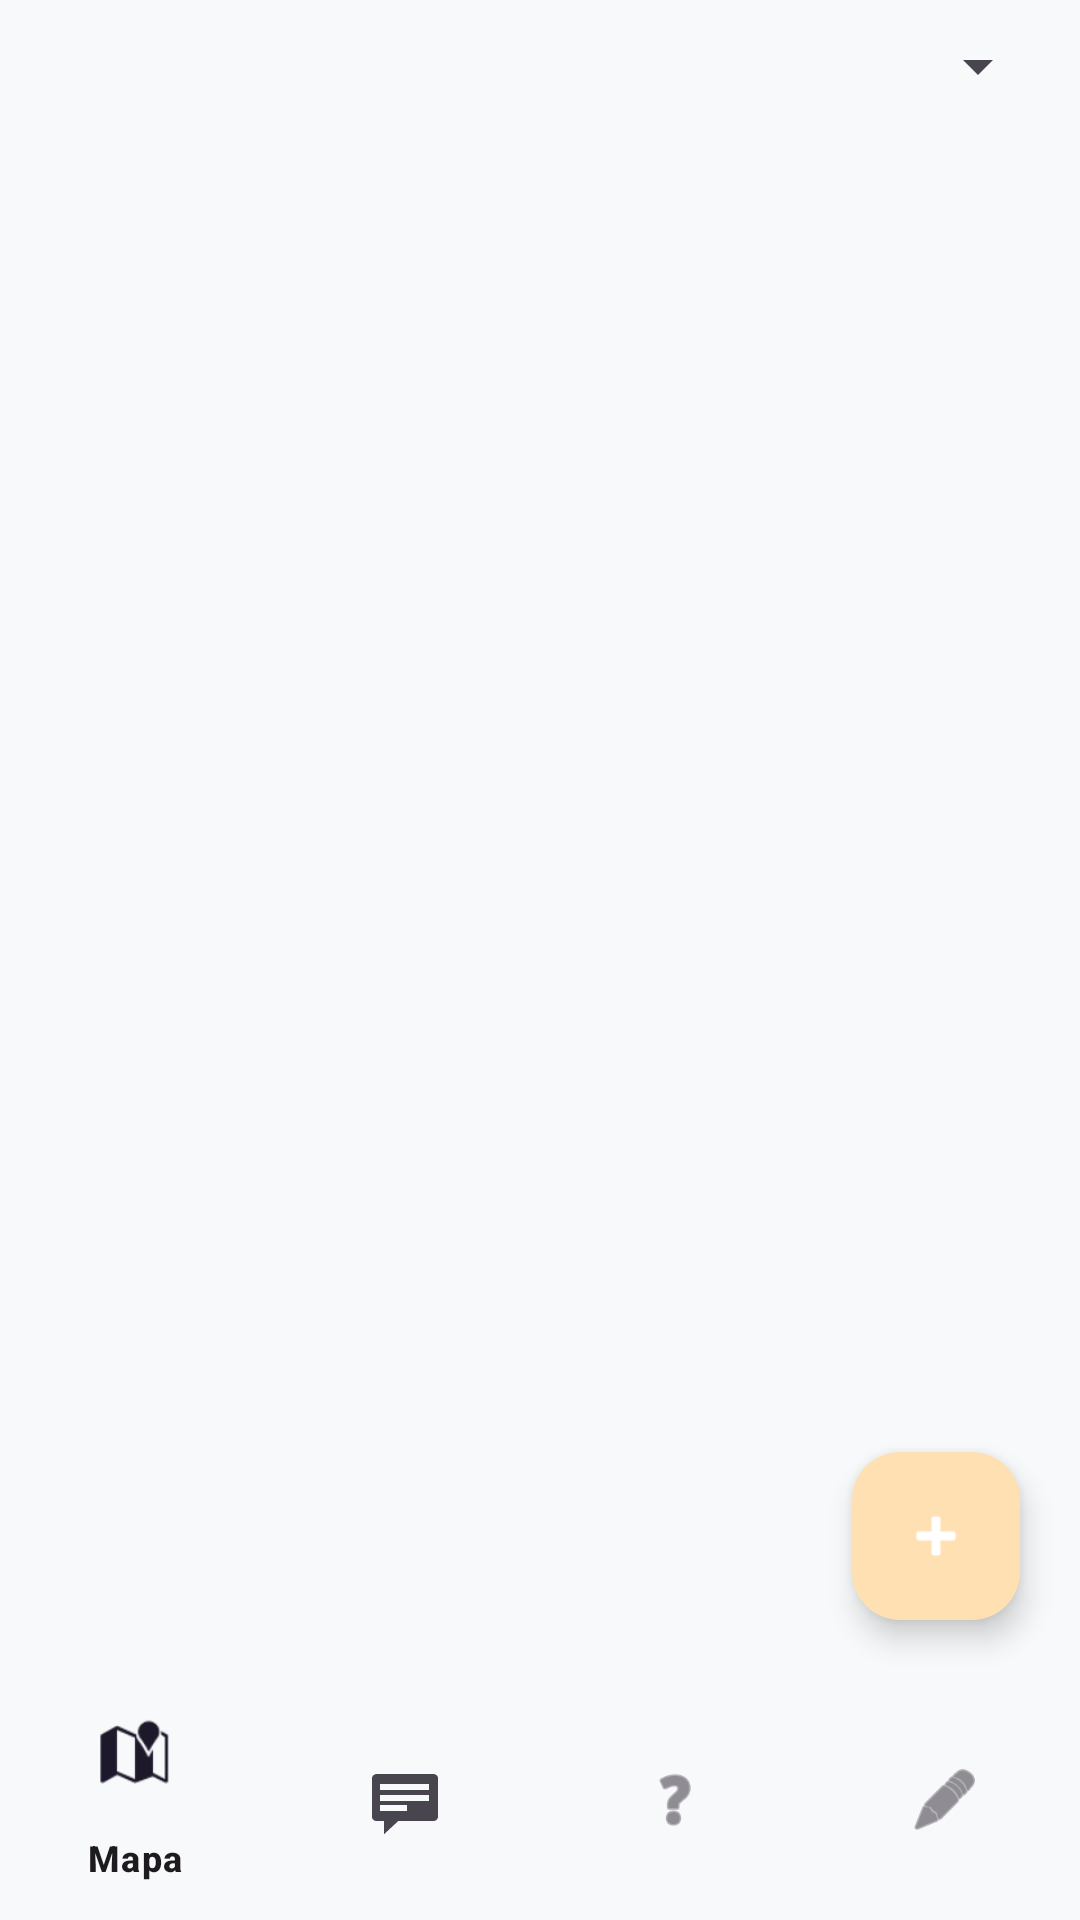

Locate icon controls on the screen. Image size 1080px×1920px, boxes as (x1, y1, x2, y2).
add: (852, 1452, 1020, 1620)
